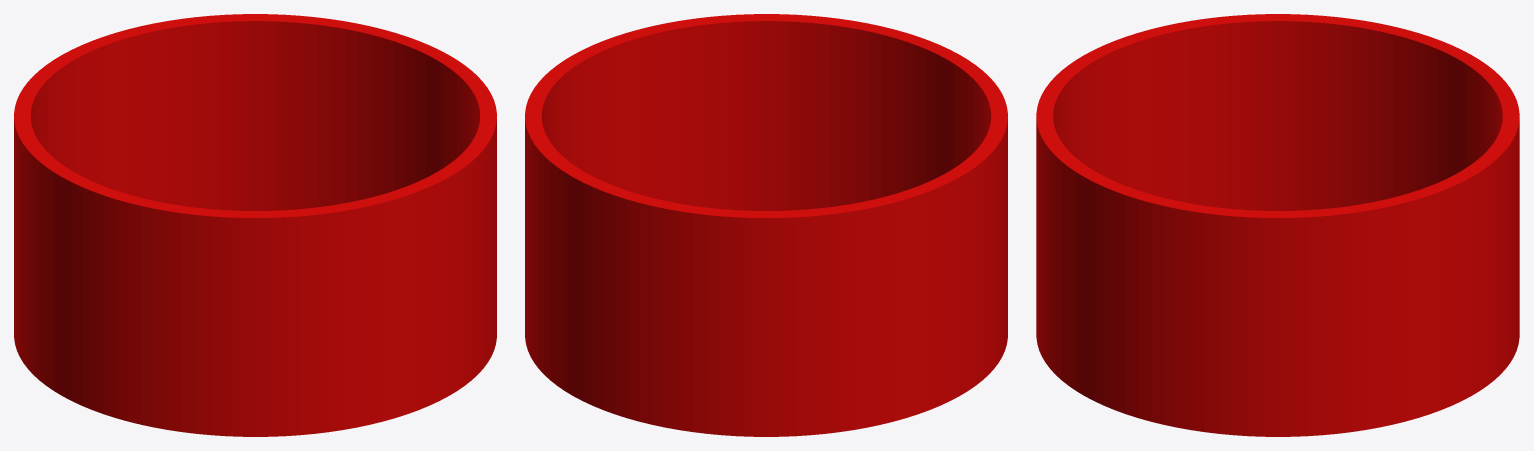
The model's file is red_drum.dae.
3 views of the same model, side by side, from view 1: azimuth 30°, elevation 25°; view 2: azimuth 150°, elevation 25°; view 3: azimuth 270°, elevation 25° (orthographic).
Visible parts, largest first — view 1: bucket; view 2: bucket; view 3: bucket.
Boxes of the visible parts, bbox=[...] form: bucket: bbox=[14, 14, 496, 436]; bucket: bbox=[525, 14, 1007, 436]; bucket: bbox=[1036, 14, 1519, 436].
Bounding box in the file's own units: 0.6 × 0.6 × 0.3.
